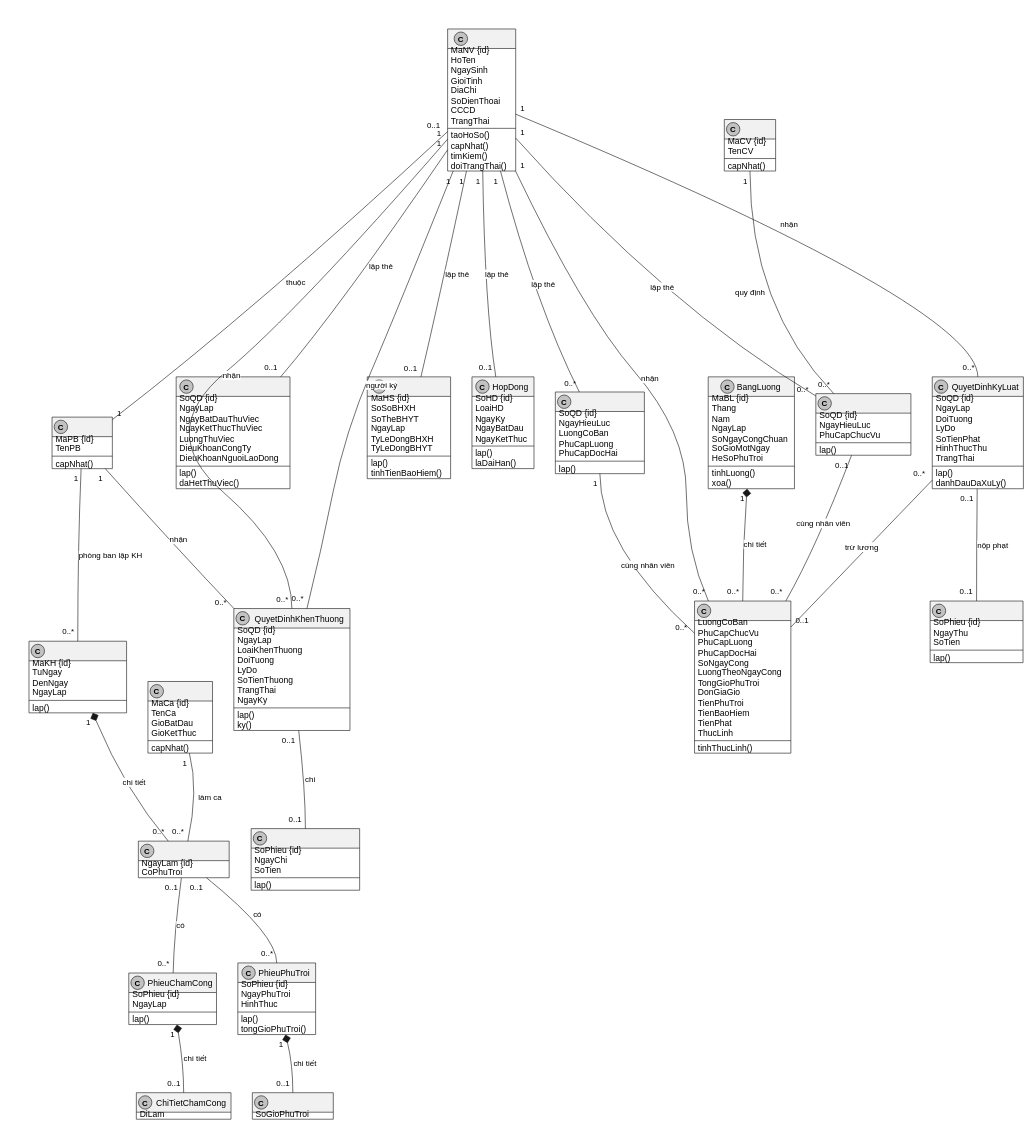
This 1034x1130 diagram has some shape labels left out. Each missing label, with the box of its shape:
CaLamViec: (147, 681, 213, 753)
ChiTietBangLuong: (694, 600, 791, 753)
ChiTietPhanCong: (138, 841, 229, 878)
ChiTietPhuTroi: (252, 1092, 333, 1119)
ChucVu: (724, 119, 776, 171)
HoSoBaoHiem: (367, 376, 451, 479)
KeHoachPhanCong: (28, 641, 127, 713)
NhanVien: (447, 28, 516, 171)
PhieuChiKhenThuong: (251, 828, 360, 890)
PhieuThuNopPhat: (930, 600, 1023, 663)
PhongBan: (51, 417, 112, 469)
QuyetDinhChucVu: (815, 393, 911, 455)
QuyetDinhLuong: (555, 391, 644, 474)
QuyetDinhTuyenDung: (176, 376, 290, 489)
